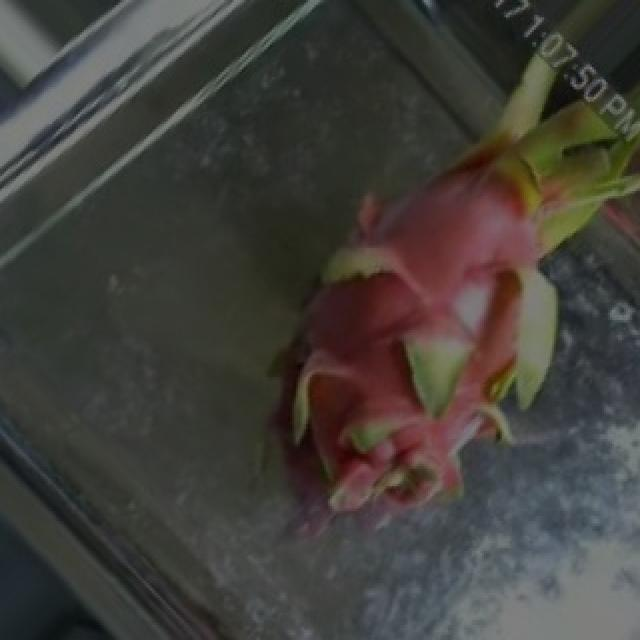fruit: (228, 35, 640, 491)
